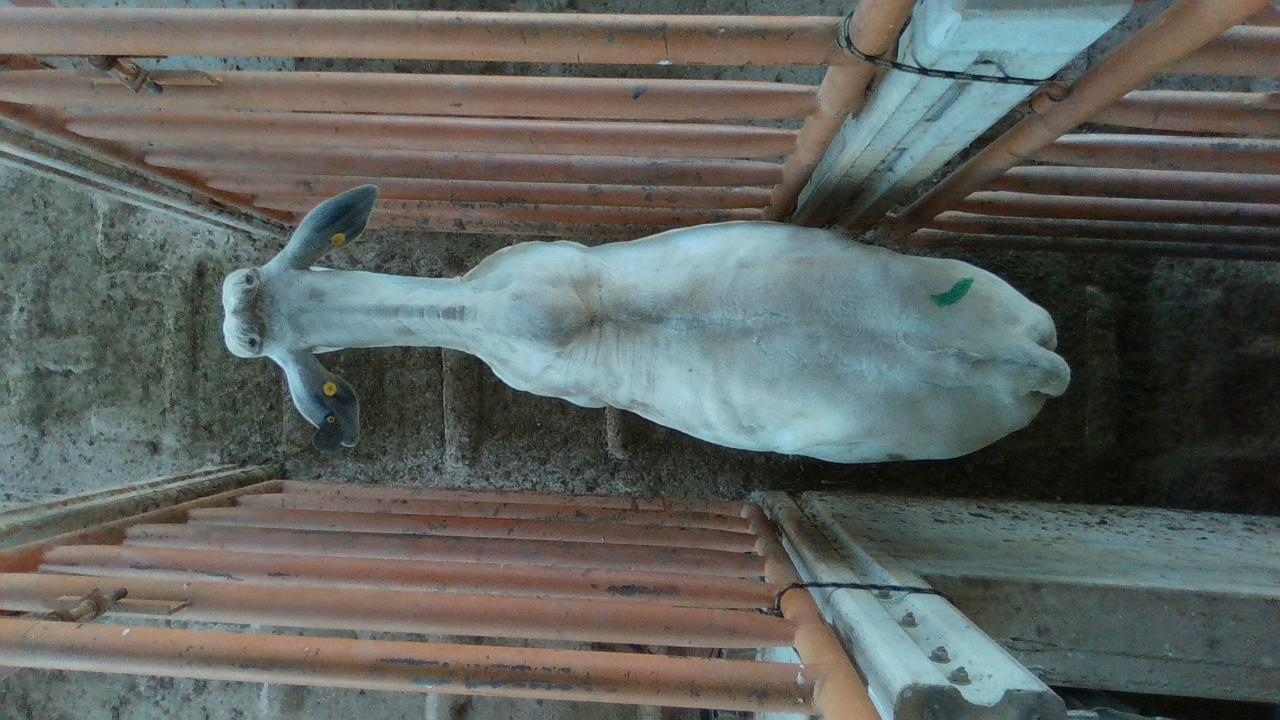cattle: (219, 182, 1071, 465)
